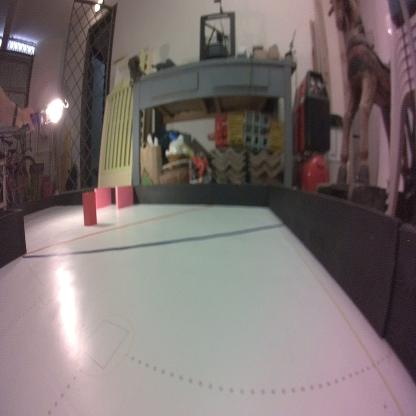magenta: (115, 184, 134, 211), (93, 184, 112, 210)
red: (81, 190, 96, 226)
